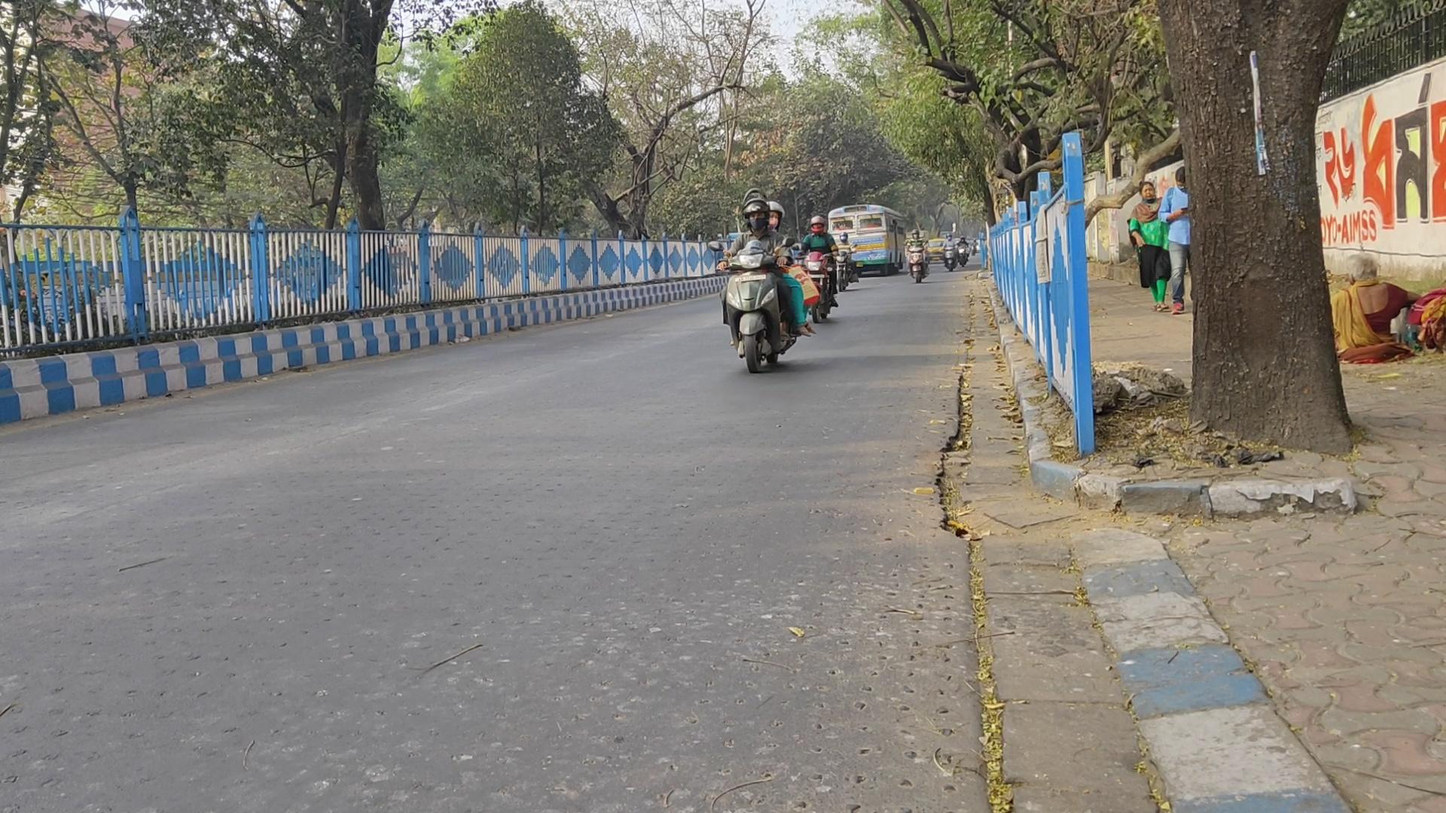Bus: (826, 203, 906, 276)
bike: (709, 187, 817, 374), (789, 214, 847, 324), (903, 228, 931, 284), (835, 231, 859, 292), (941, 232, 959, 273), (955, 236, 970, 267)
